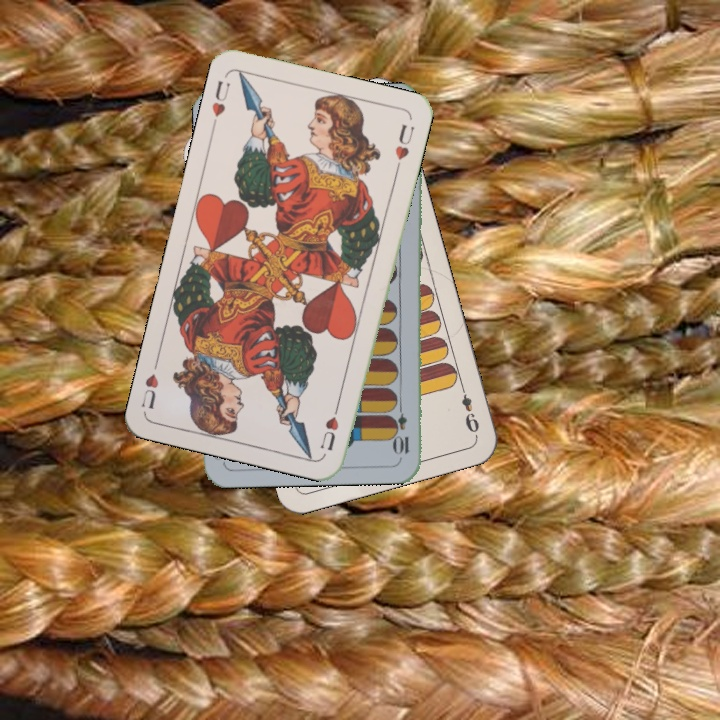E10: (393, 398, 412, 457)
E9: (456, 380, 482, 438)
HU: (316, 398, 343, 454), (208, 76, 233, 120)
